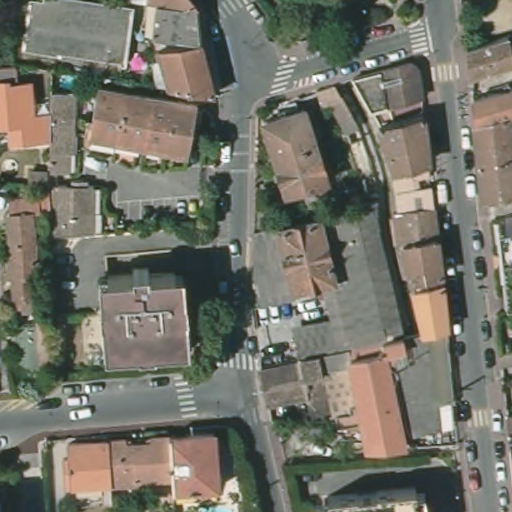pool: (59, 75, 77, 93)
